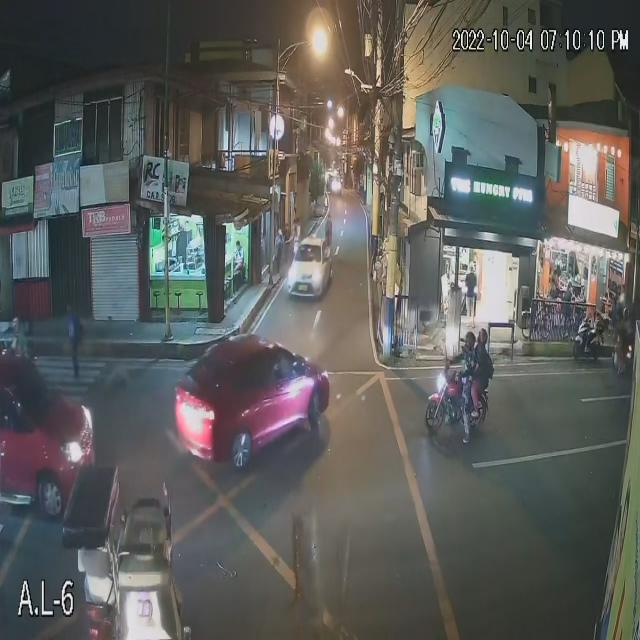helmet: (459, 329, 477, 354), (477, 327, 488, 347)
motorcycle: (424, 364, 489, 435), (573, 317, 613, 362)
rider: (448, 355, 477, 443), (469, 349, 496, 420)
